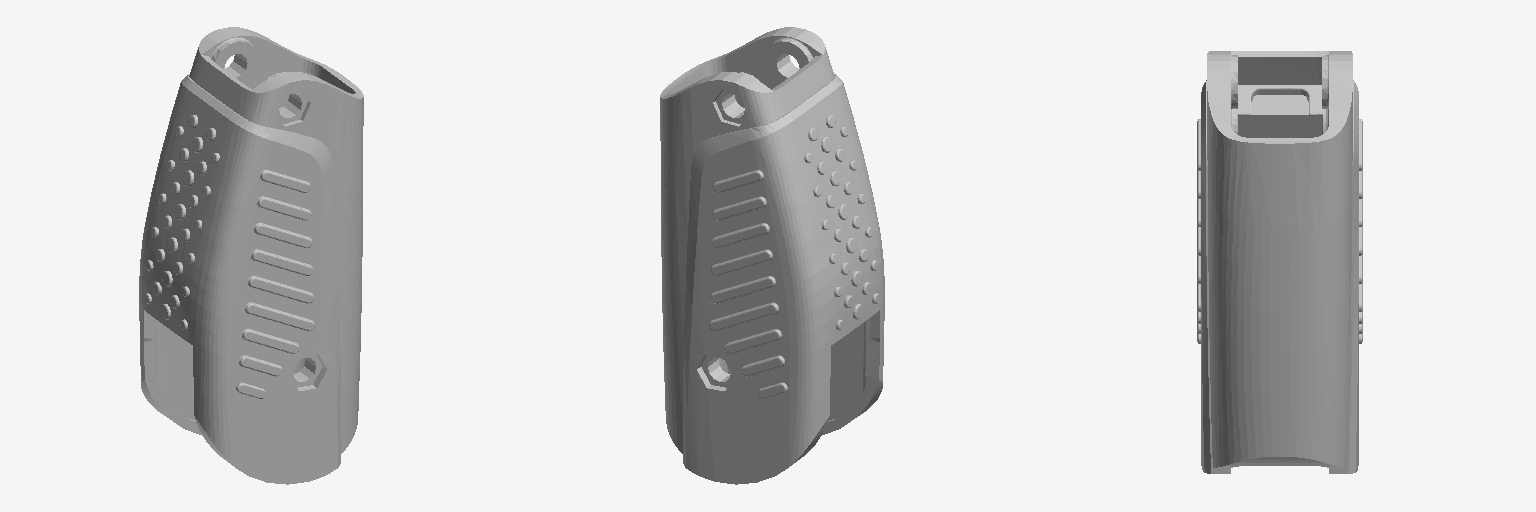
File: right_index_1_visuals.obj
3 renders of one model, left to right at view 1: azimuth 30°, elevation 25°; view 2: azimuth 150°, elevation 25°; view 3: azimuth 270°, elevation 25°, orthographic.
Size of the model in its own units: 0.0237 by 0.0493 by 0.0184.